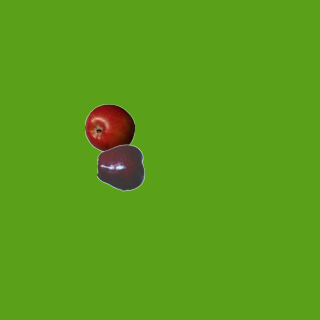Apple Braeburn: (84, 103, 134, 153)
Apple Red Delicious: (96, 142, 146, 192)
